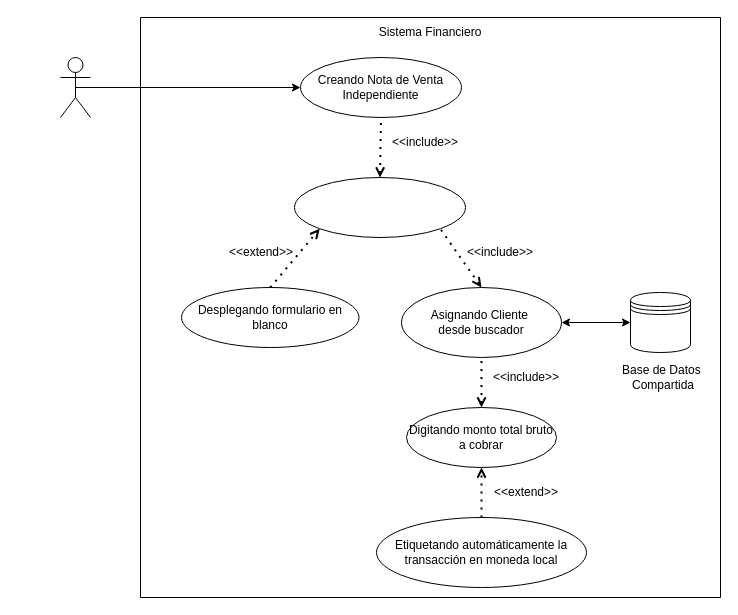
Image size: 738x615. Some labels were removed from this diagram. Each missing label, with the box of its shape:
Gerencia o Secretaria: (60, 56, 90, 118)
Interactuando con Botón "Crear Venta Directa": (294, 176, 466, 238)
